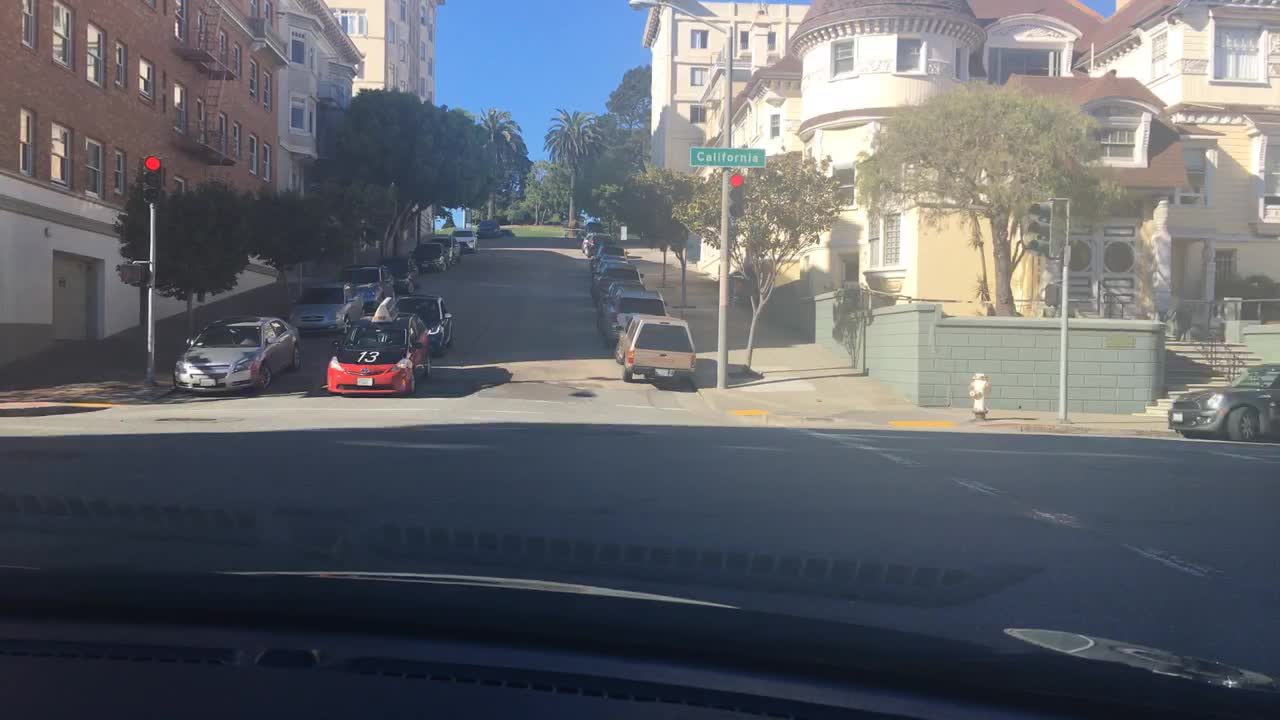car: (171, 314, 301, 395), (325, 311, 433, 399), (1167, 359, 1278, 444), (615, 311, 699, 387), (371, 294, 457, 354), (285, 281, 365, 338), (598, 290, 663, 347), (590, 256, 641, 300), (347, 264, 392, 310), (379, 255, 419, 296), (589, 247, 624, 281), (412, 240, 449, 272), (581, 232, 615, 255), (435, 232, 460, 262), (450, 229, 476, 249), (477, 219, 503, 237), (575, 218, 598, 236), (501, 227, 513, 235)
traffic light: (116, 210, 142, 257), (1028, 202, 1047, 254), (142, 156, 160, 204), (117, 261, 144, 286), (729, 173, 743, 218), (1043, 284, 1059, 307)
traffic sign: (689, 146, 763, 166)
